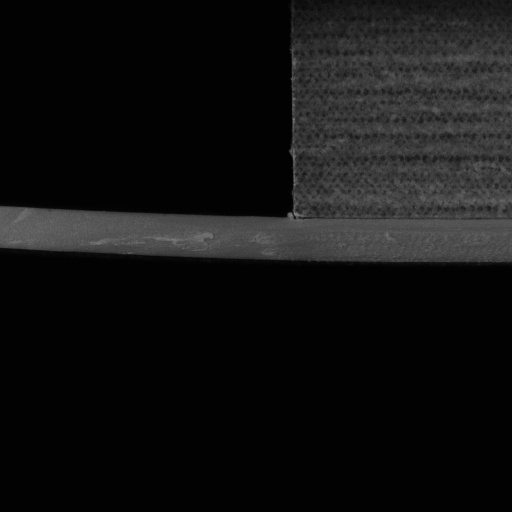changdai: (0, 204, 293, 263)
